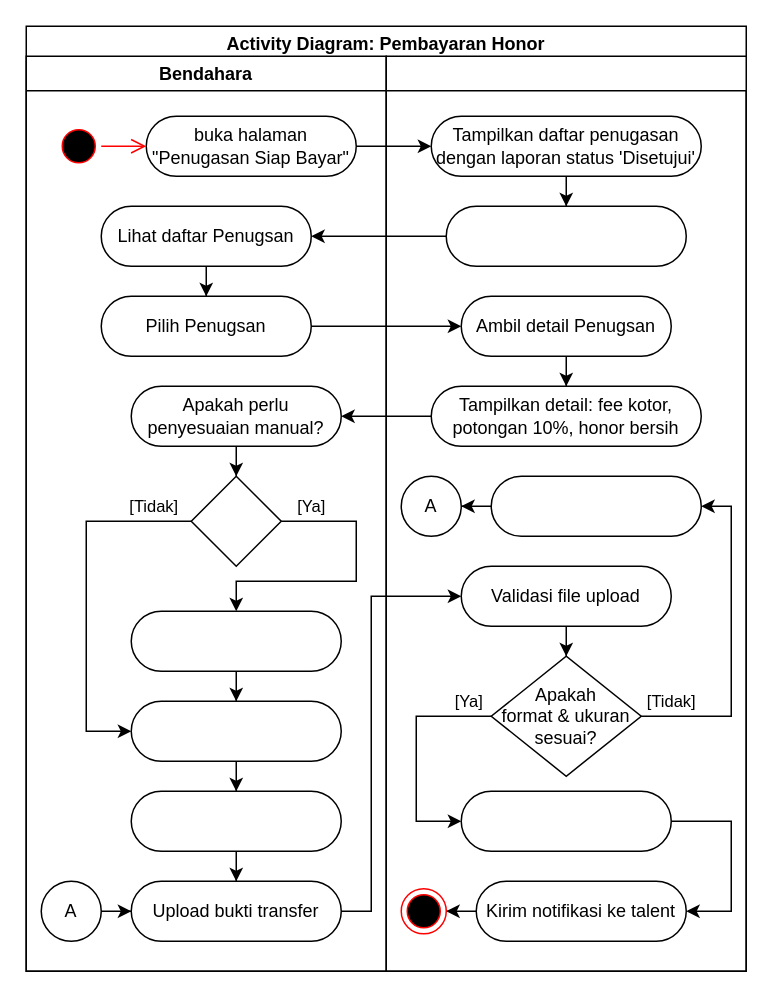
This 773x998 diagram has some shape labels left out. Each missing label, with the box of its shape:
Edit honor bersih, catat alasan: (130, 610, 341, 671)
Konfirmasi perhitungan: (130, 700, 341, 761)
Lakukan transfer (di luar sistem): (130, 790, 341, 851)
perlu: (190, 475, 281, 566)
Simpan bukti, ubah status jadi 'Lunas': (460, 790, 671, 851)
Sistem: (385, 55, 746, 971)
Tampilkan daftar Penugsan: (445, 205, 686, 266)
Tampilkan error "minta upload ulang": (490, 475, 701, 536)
